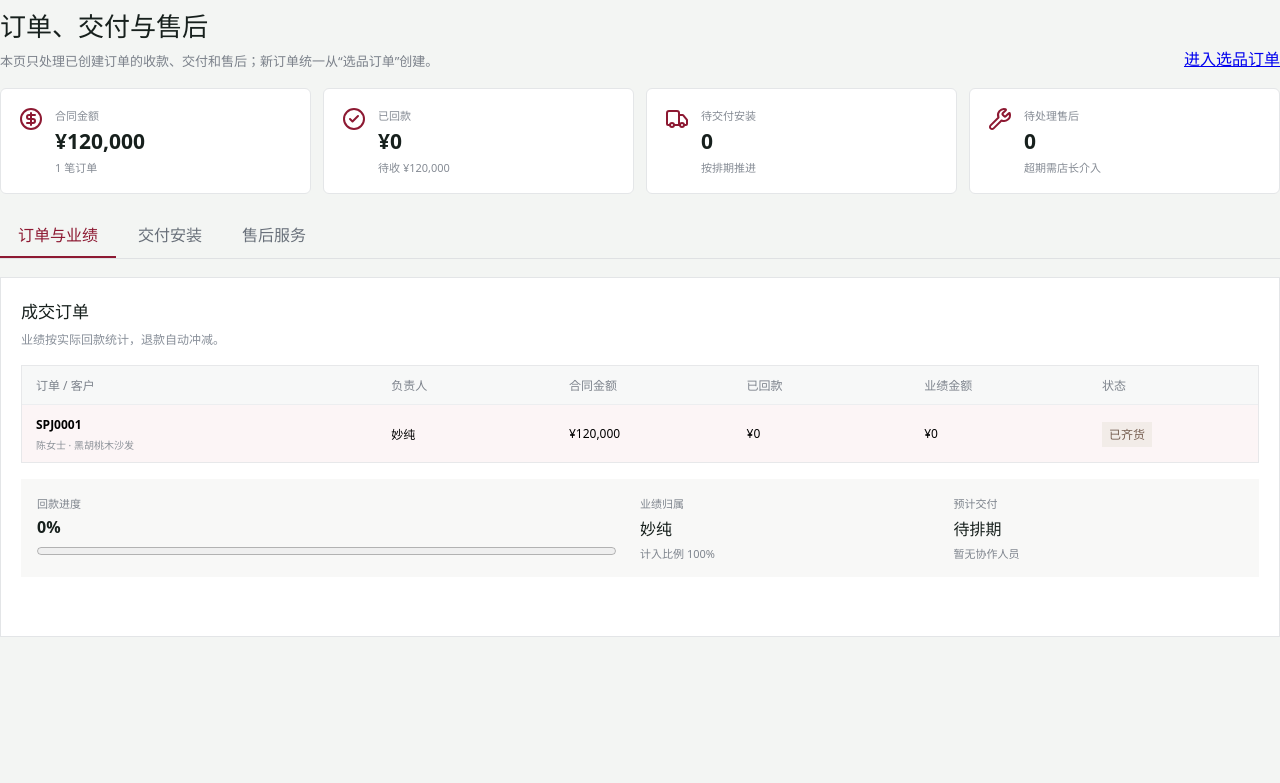
Test: LifecyclePage › starts delivery from the matching customer order instead of a global action
Click the tab "交付安装" at [170, 235], box [120,212,220,258]
(page scrolled)
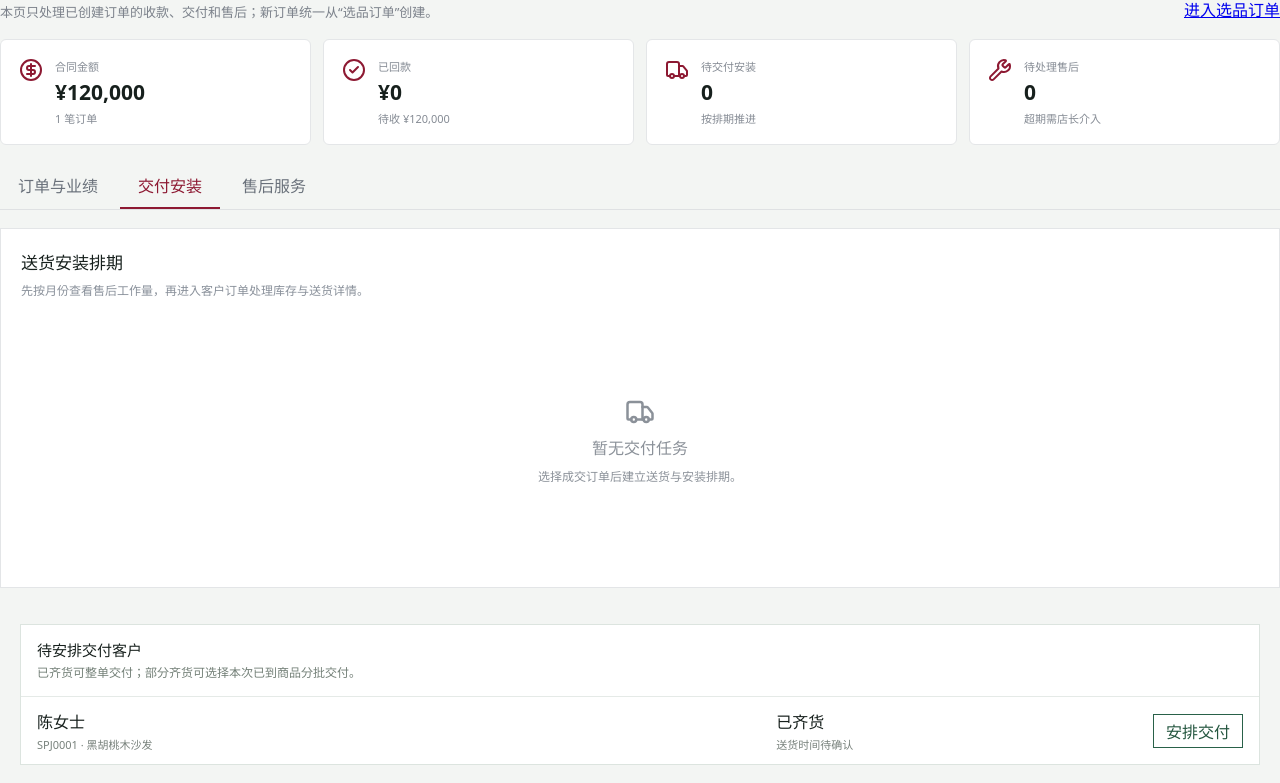
Expected: the button "新增交付任务" is not shown
Click the button "安排交付" at [1198, 730], box [1153,714,1243,748]
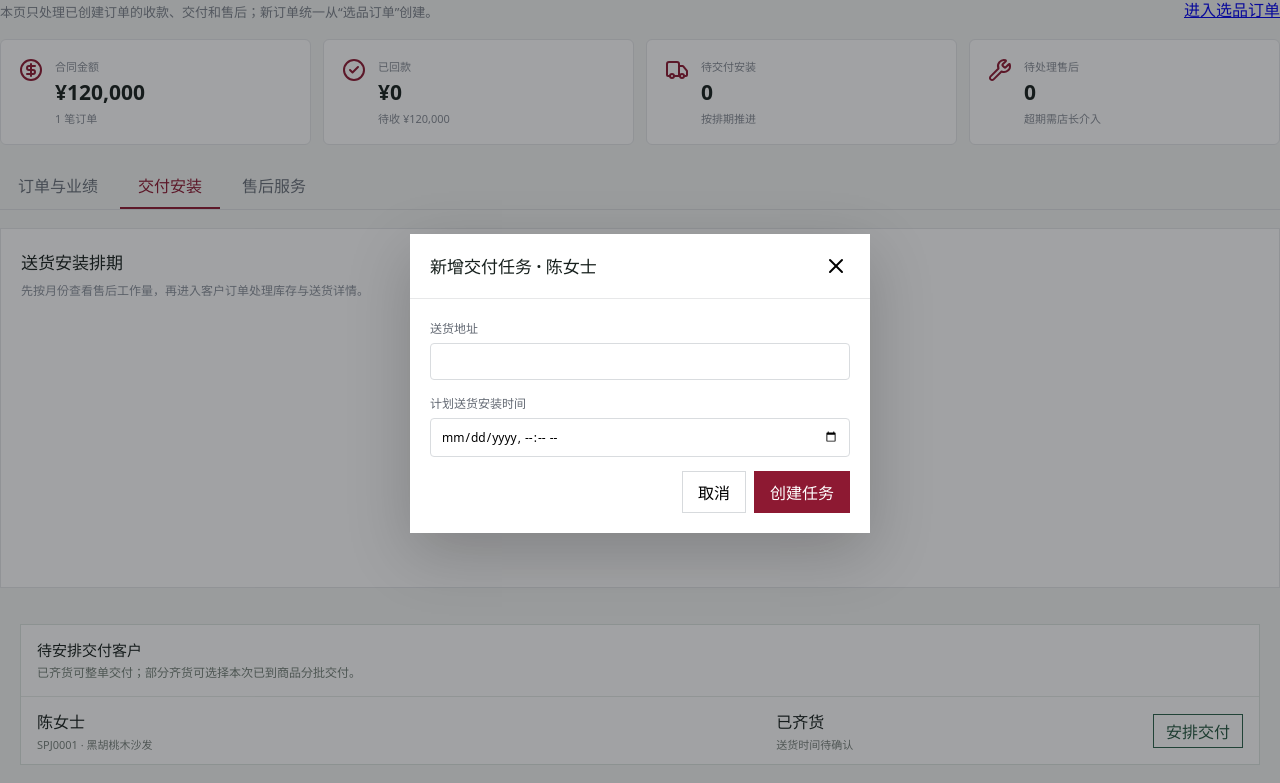
Result: the dialog "新增交付任务 · 陈女士" is shown at [410,234,870,532]
